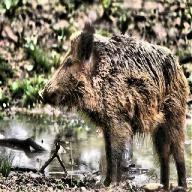boar: (38, 22, 190, 191)
